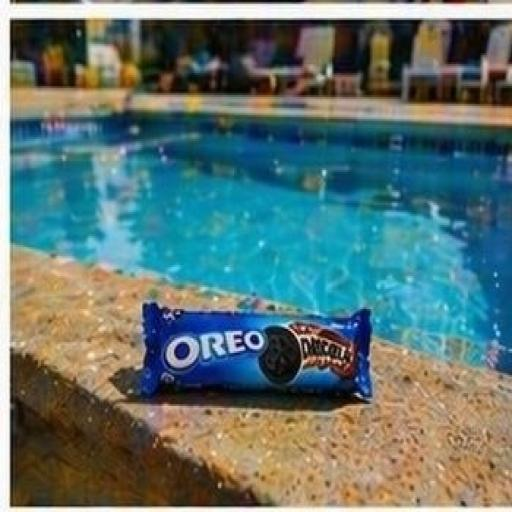oreo: (112, 248, 398, 454)
